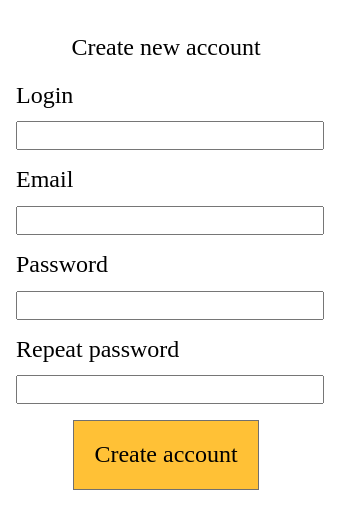
it: RegisterPage › should log alert on error
Type "login123" into the field with test id "login" at (170, 136), box [16, 121, 324, 150]
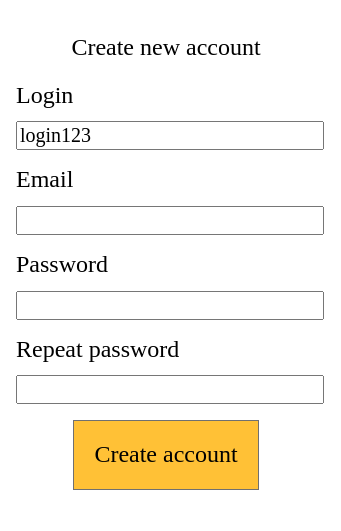
Type "email@gmail.com" into the field with test id "email" at (170, 220), box [16, 206, 324, 235]
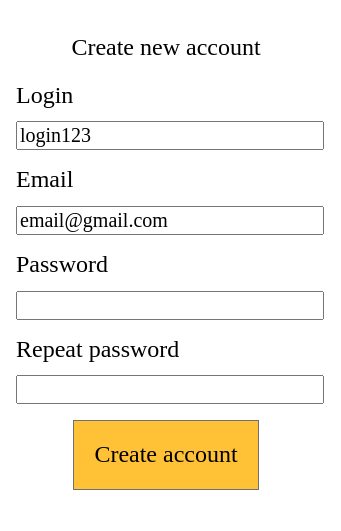
Type "password123" into the password field with test id "password" at (170, 305), box [16, 290, 324, 320]
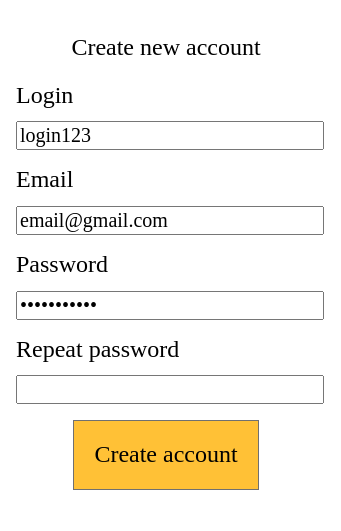
Type "password123" into the password field with test id "passwordRepeat" at (170, 390), box [16, 375, 324, 404]
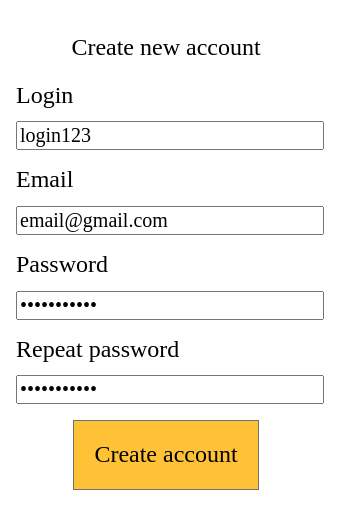
Click the button with test id "submit" at (166, 455), box [73, 420, 259, 490]
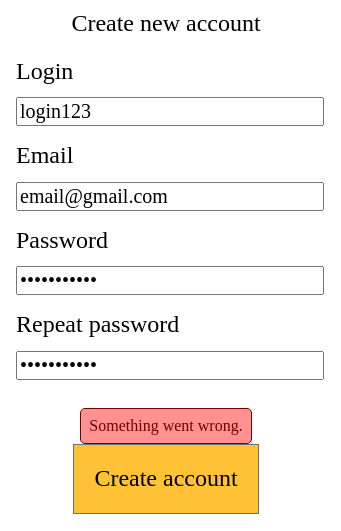
Check: the text with test id "alert" reads "Something went wrong.", box [89, 417, 243, 434]
